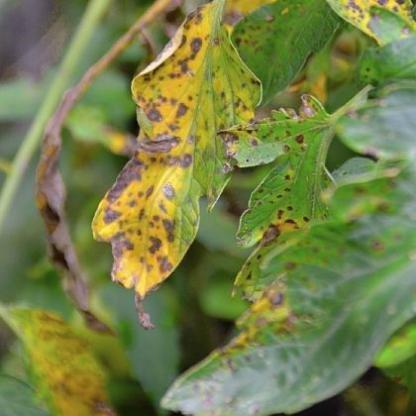Potato leaf late blight: (95, 2, 264, 301), (235, 166, 331, 310), (218, 97, 340, 172)
